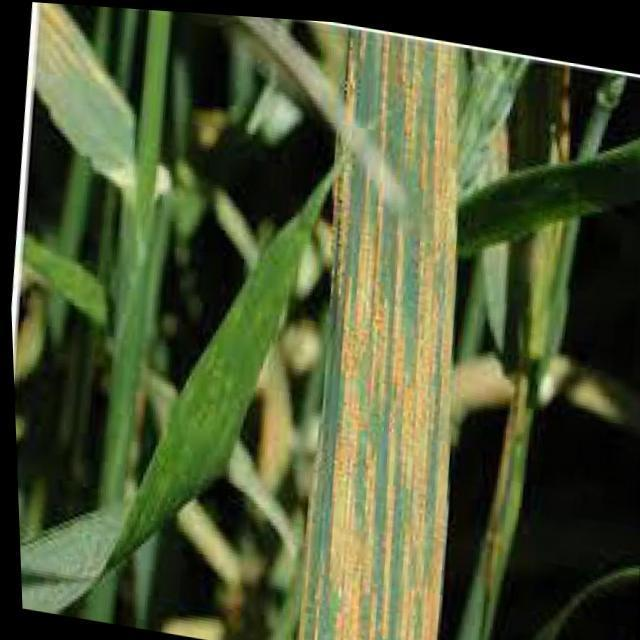Yellow Rust: (236, 14, 527, 639)
